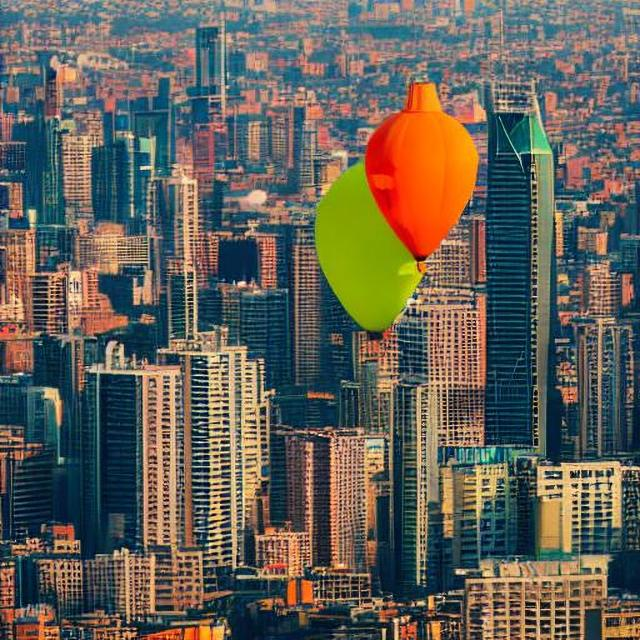balloon: (315, 76, 483, 329)
